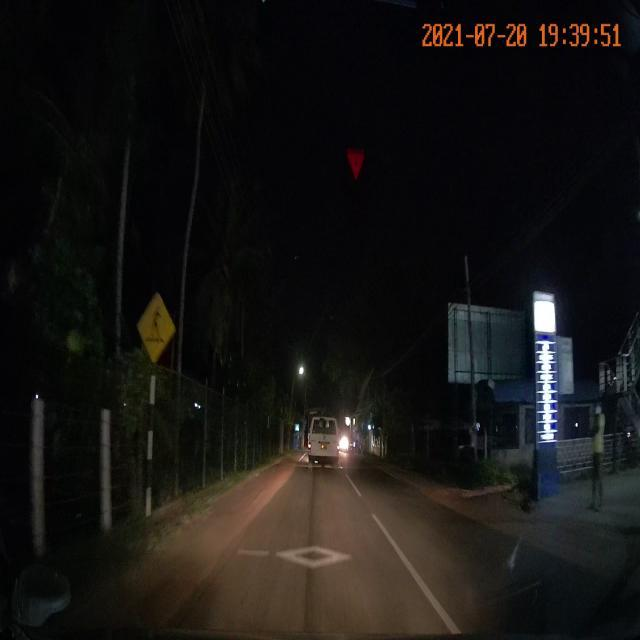diamond: (206, 515, 443, 602)
